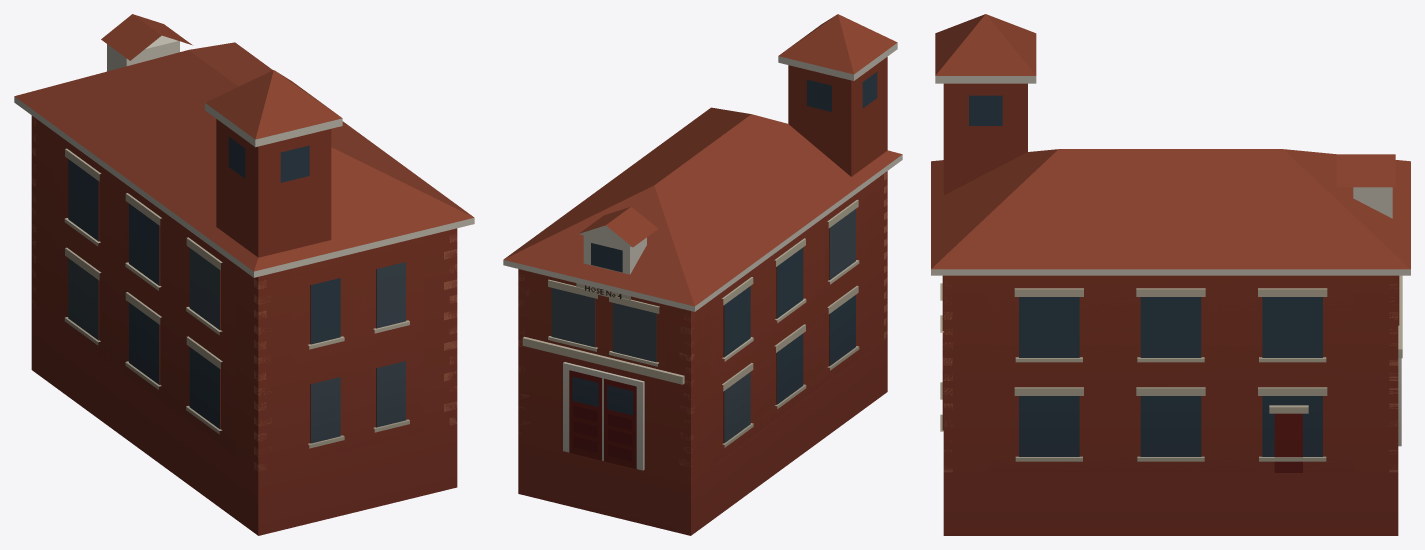
Rendered from hosestation4.glb.
3 renders of one model, left to right at view 1: azimuth 30°, elevation 25°; view 2: azimuth 150°, elevation 25°; view 3: azimuth 270°, elevation 25°, orthographic. The views are drawn at different scales.
Visible parts, largest first — view 1: hosestation4_lod0; view 2: hosestation4_lod0; view 3: hosestation4_lod0.
Part boxes in pixels (box(x1,y1,x2,y2)): hosestation4_lod0: box(14, 14, 474, 535); hosestation4_lod0: box(503, 14, 902, 535); hosestation4_lod0: box(931, 14, 1410, 535).
Size of what is drawn, in the model's own units: 9.1 by 17.4 by 17.1.
